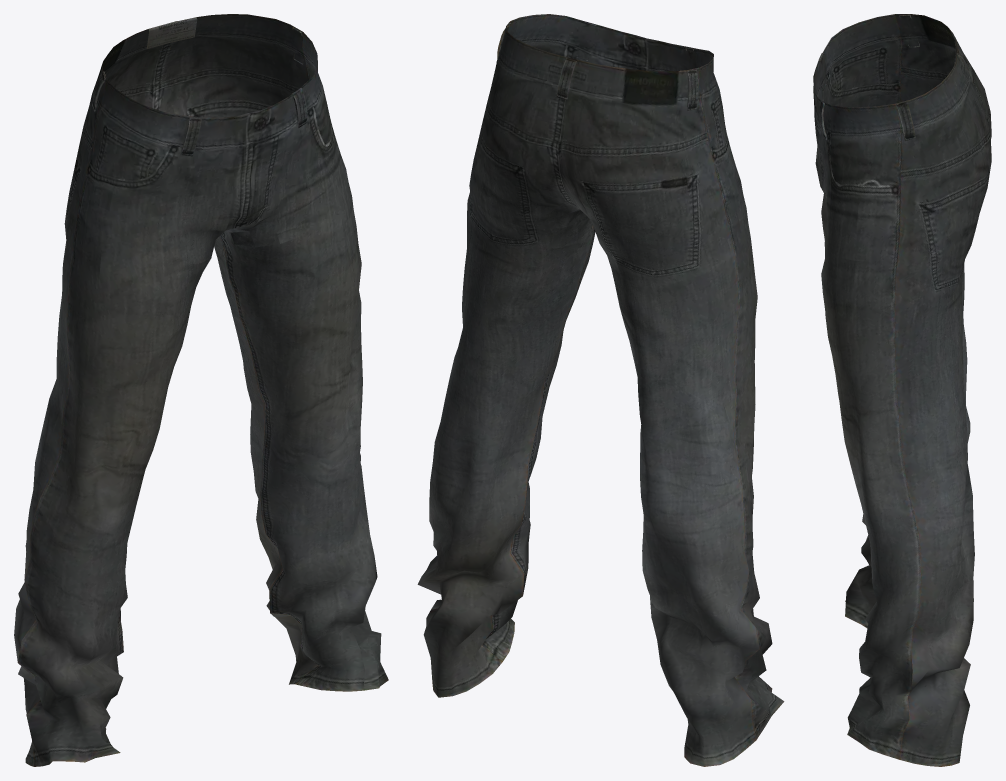
Rendered from mindfront-male-trousers-1.glb.
3 renders of one model, left to right at view 1: azimuth 30°, elevation 25°; view 2: azimuth 150°, elevation 25°; view 3: azimuth 270°, elevation 25°, orthographic. The views are drawn at different scales.
Visible parts, largest first — view 1: male trousers; view 2: male trousers; view 3: male trousers.
Part boxes in pixels (<box>): male trousers: <box>14,14,388,766</box>; male trousers: <box>417,14,784,766</box>; male trousers: <box>813,14,991,766</box>.
Bounding box in the file's own units: 52.26 × 100 × 24.76.
Materials: 1 (1 with a texture image).
